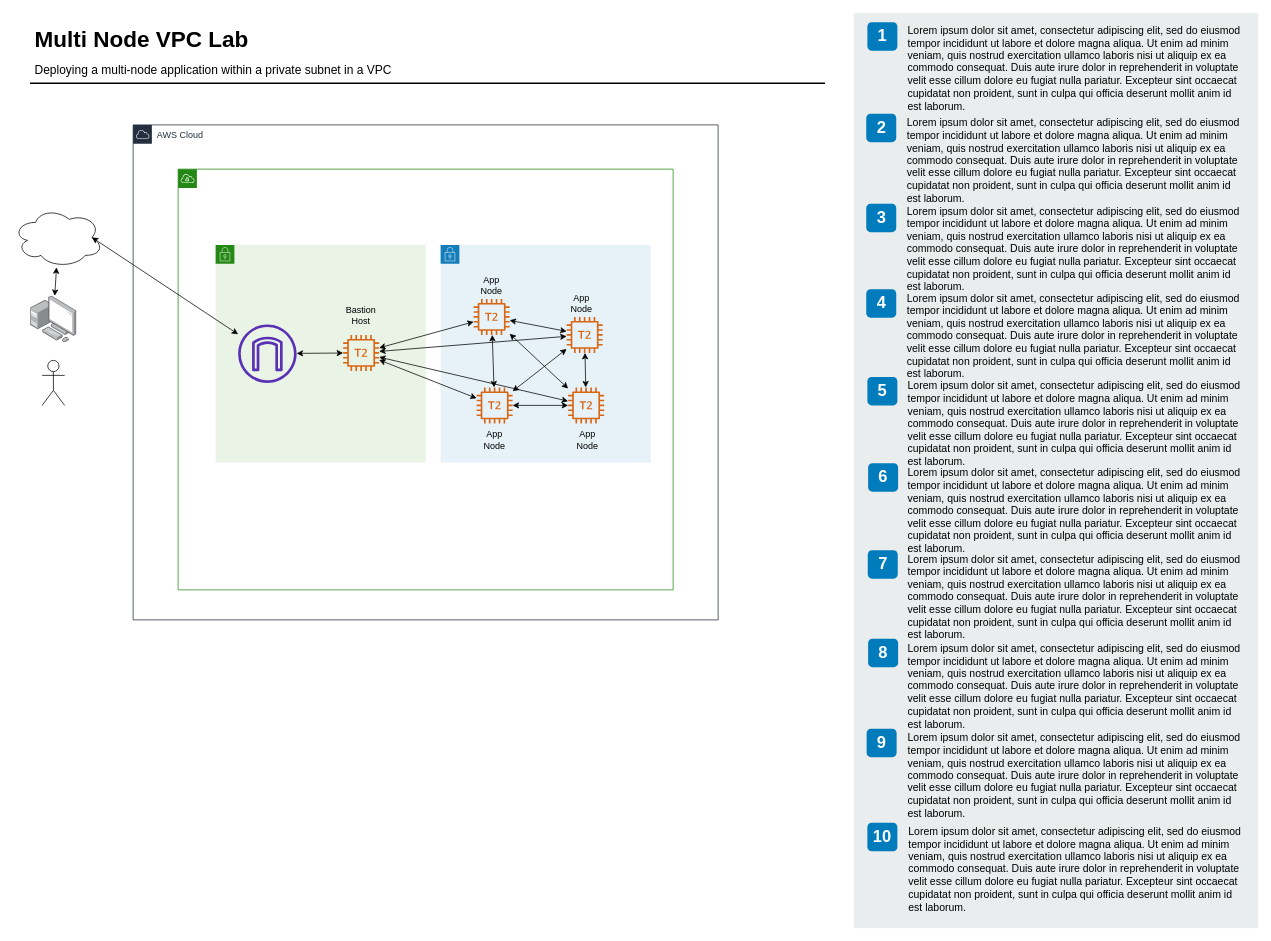
This 1271x941 diagram has some shape labels left out. Here are the shapes that lost their labels. From the top down, the box of each, then its label:
(12, 207, 103, 267): Internet
(215, 244, 426, 462): Public subnet
(440, 244, 651, 462): Private subnet
(41, 360, 65, 405): App Admin / User
(177, 168, 673, 590): VPC
